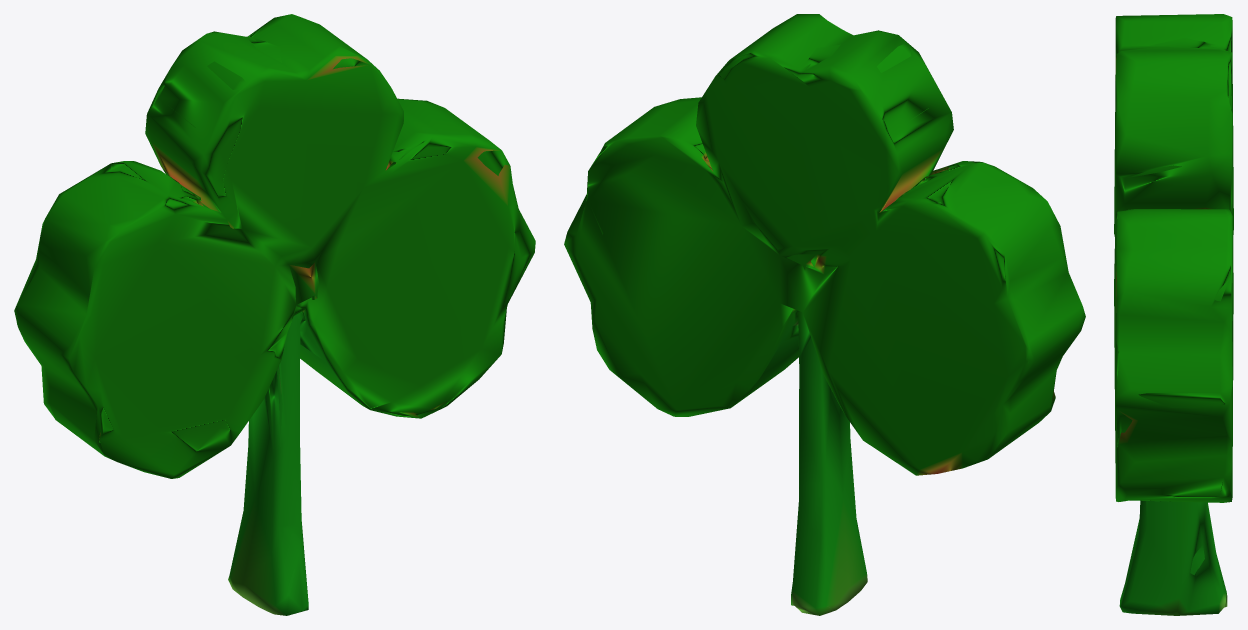
Rendered from gen3d-four-leaf-clover-lod0.glb.
3 renders of one model, left to right at view 1: azimuth 30°, elevation 25°; view 2: azimuth 150°, elevation 25°; view 3: azimuth 270°, elevation 25°, orthographic. The views are drawn at different scales.
Parts seen in each view (by area): view 1: part_0; view 2: part_0; view 3: part_0.
Boxes of the visible parts, box(x1,y1,x2,y2) form: part_0: box(14, 14, 535, 615); part_0: box(564, 14, 1085, 615); part_0: box(1114, 14, 1233, 615).
Bounding box in the file's own units: 0.8867 × 0.9984 × 0.19.
